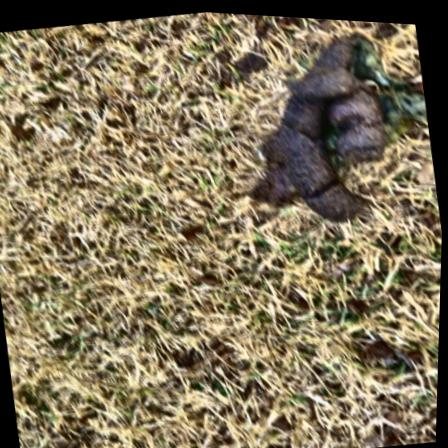dog-poop: (246, 31, 419, 229)
